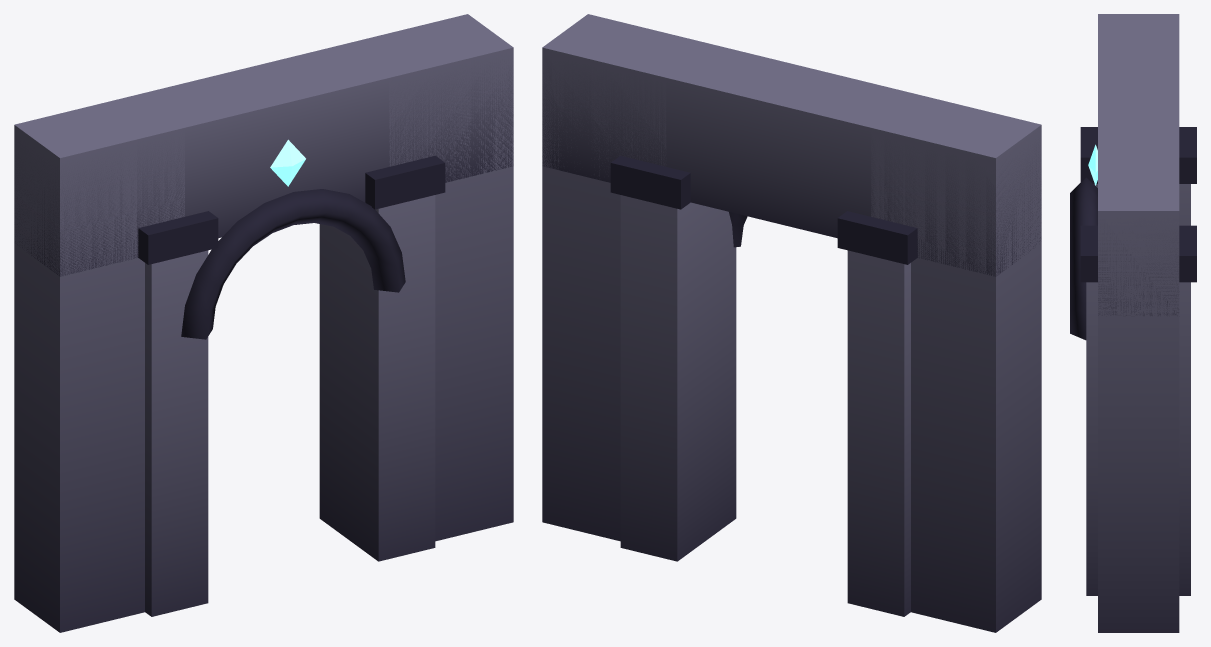
File: dun_doorway.glb
3 views of the same model, side by side, from view 1: azimuth 30°, elevation 25°; view 2: azimuth 150°, elevation 25°; view 3: azimuth 270°, elevation 25° (orthographic). The views are drawn at different scales.
Visible parts, largest first — view 1: dun_doorway; view 2: dun_doorway; view 3: dun_doorway.
Part boxes in pixels (left/top/right/bottom): dun_doorway: left=14, top=14, right=513, bottom=632; dun_doorway: left=542, top=14, right=1041, bottom=632; dun_doorway: left=1070, top=14, right=1196, bottom=632.
Size of the model in its own units: 4 by 4 by 1.09.
